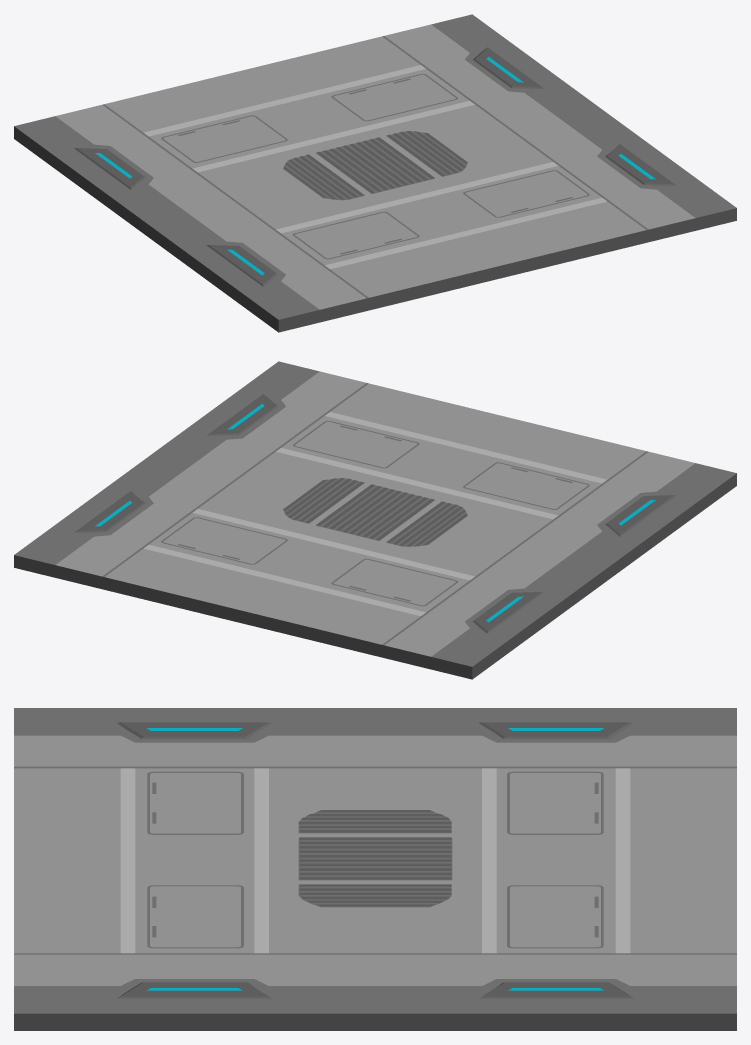
The model's file is tile_platform_004.fbx.
3 views of the same model, one above another, from view 1: azimuth 30°, elevation 25°; view 2: azimuth 150°, elevation 25°; view 3: azimuth 270°, elevation 25° (orthographic). The views are drawn at different scales.
Visible parts, largest first — view 1: tile_platform_004; view 2: tile_platform_004; view 3: tile_platform_004.
Boxes of the visible parts, x1,y1,x2,y2 form: tile_platform_004: (14, 14, 736, 332); tile_platform_004: (14, 361, 736, 679); tile_platform_004: (14, 708, 736, 1030).
Bounding box in the file's own units: 800 × 800 × 24.11.
